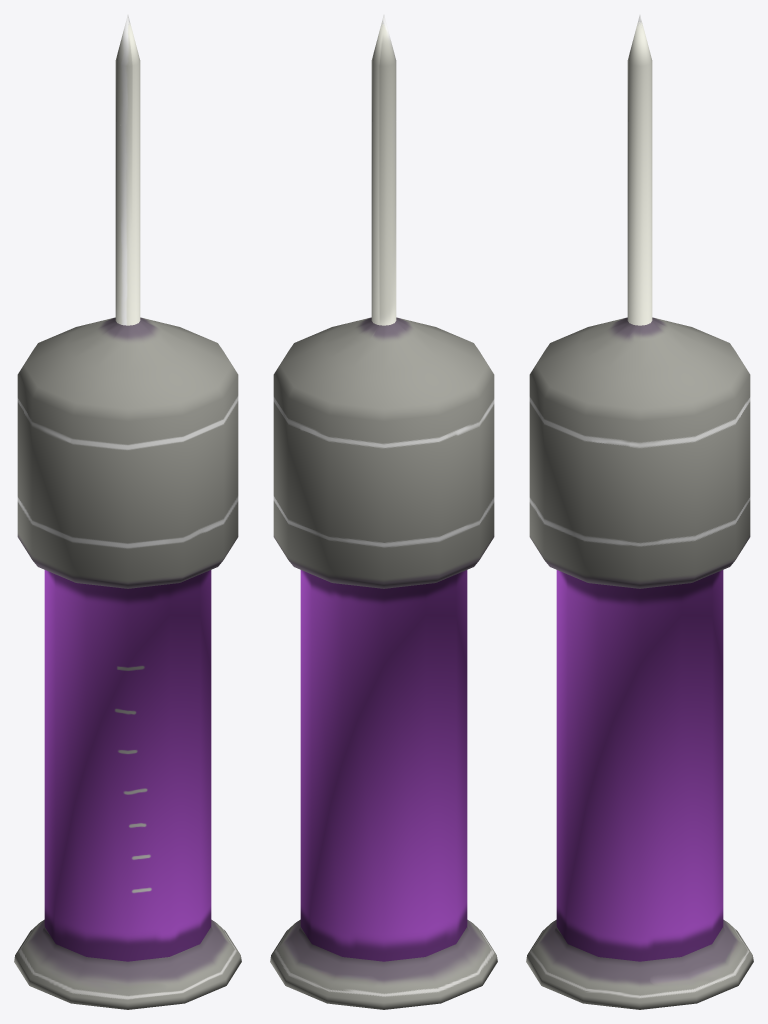
The model's file is Projectile Ungu.fbx.
3 renders of one model, left to right at view 1: azimuth 30°, elevation 25°; view 2: azimuth 150°, elevation 25°; view 3: azimuth 270°, elevation 25°, orthographic.
Visible parts, largest first — view 1: Cylinder; view 2: Cylinder; view 3: Cylinder.
Boxes of the visible parts, <box> form: Cylinder: <box>14,15,241,1009</box>; Cylinder: <box>270,15,497,1009</box>; Cylinder: <box>526,15,753,1009</box>.
Size of the model in its own units: 11 by 50.48 by 11.
1 material, 1 textured.
